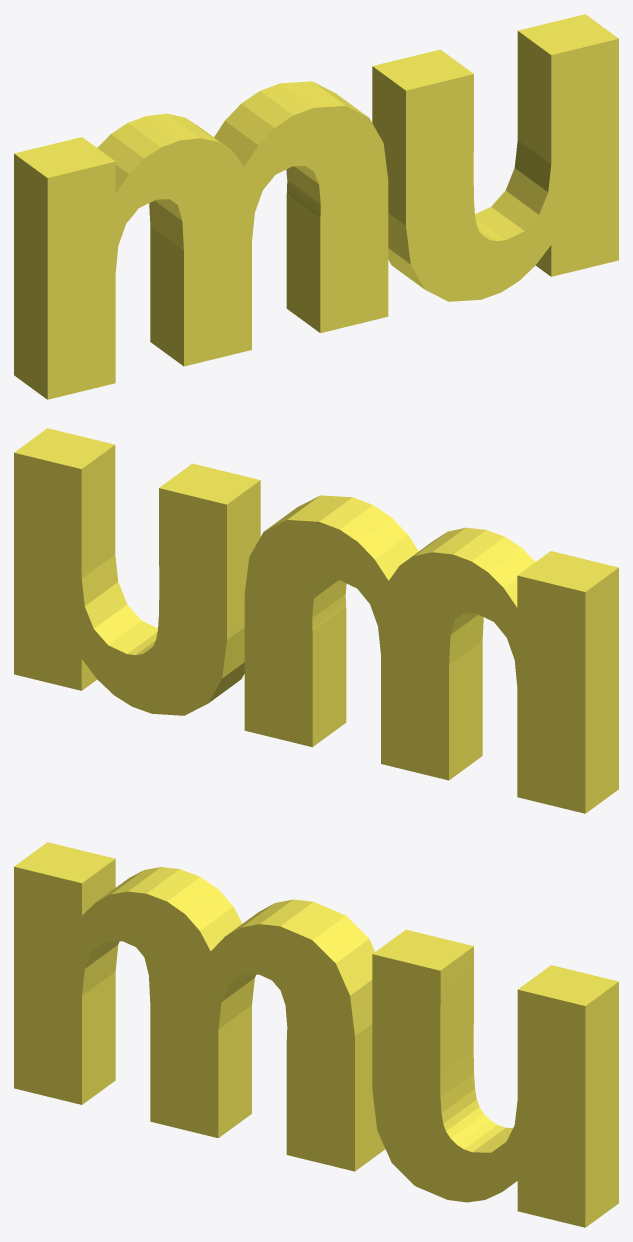
The model's file is suku_kecil_mu.glb.
3 renders of one model, top to bottom at view 1: azimuth 30°, elevation 25°; view 2: azimuth 150°, elevation 25°; view 3: azimuth 330°, elevation 25°, orthographic.
Parts seen in each view (by area): view 1: geometry_0; view 2: geometry_0; view 3: geometry_0.
Boxes of the visible parts, x1,y1,x2,y2 form: geometry_0: (14, 14, 618, 399); geometry_0: (14, 428, 618, 813); geometry_0: (14, 842, 618, 1227).
Size of the model in its own units: 14.75 by 5.74 by 1.5.
